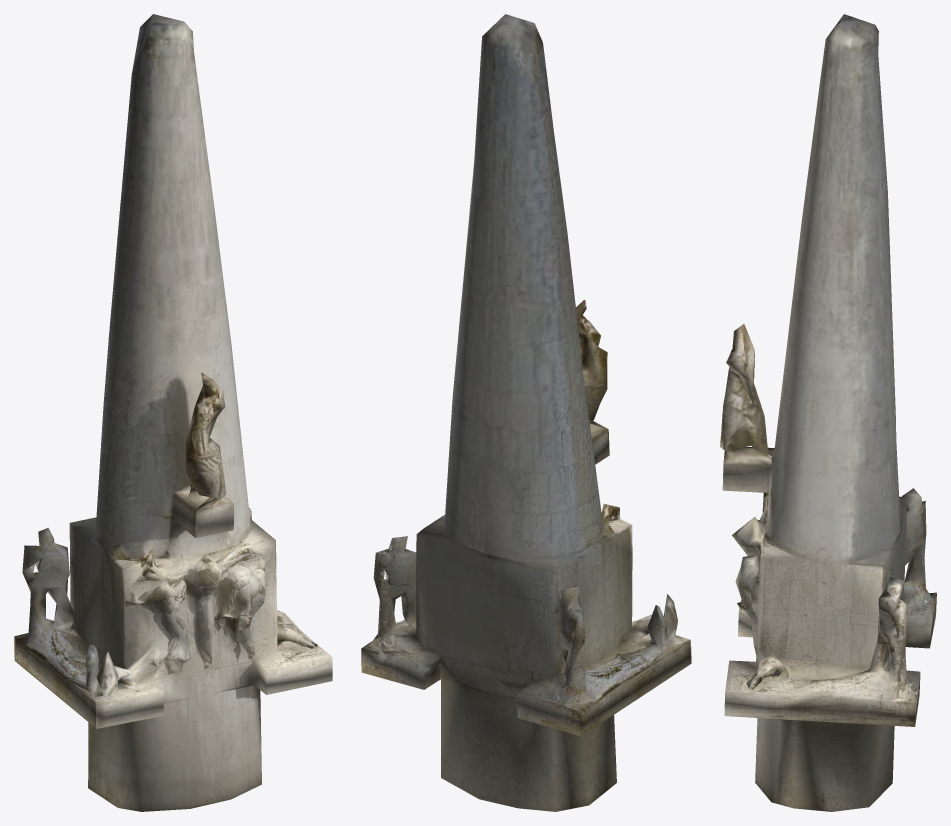
The model's file is dam_monument.glb.
3 renders of one model, left to right at view 1: azimuth 30°, elevation 25°; view 2: azimuth 150°, elevation 25°; view 3: azimuth 270°, elevation 25°, orthographic.
Visible parts, largest first — view 1: model; view 2: model; view 3: model.
Part boxes in pixels (x1,y1,x2,y2): model: [14, 14, 332, 811]; model: [361, 14, 691, 811]; model: [720, 14, 936, 811].
Bounding box in the file's own units: 0.3005 × 0.9032 × 0.2354.
Materials: 1 (1 with a texture image).
